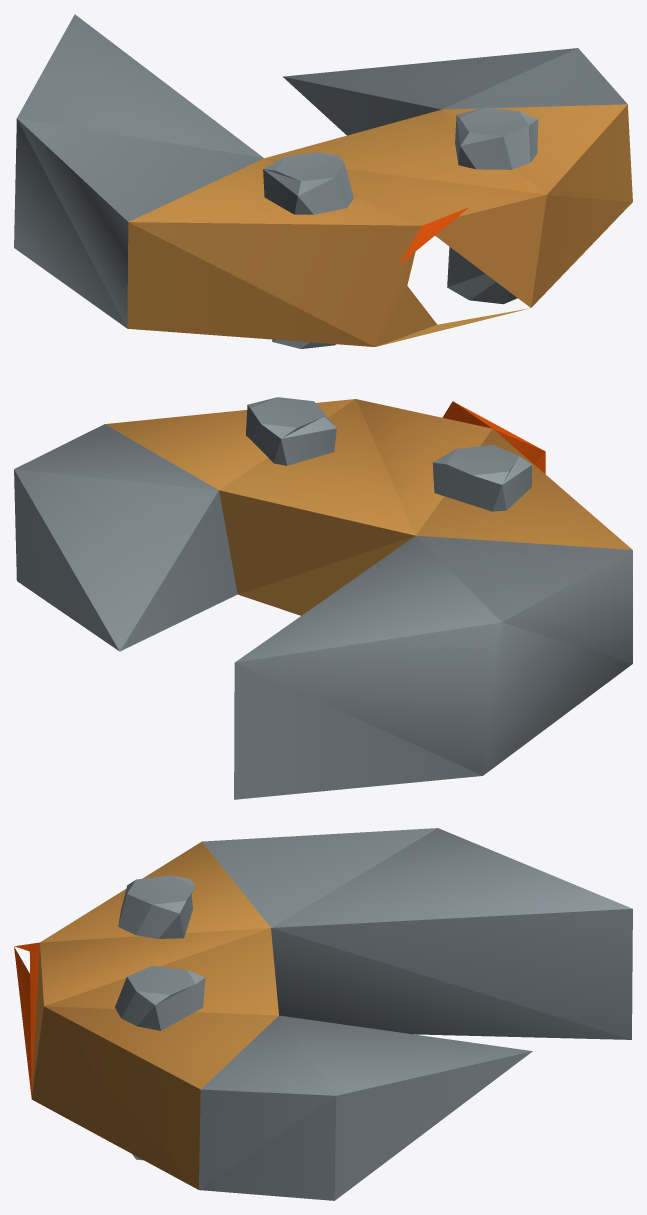
The model's file is claw_hook.glb.
The picture shows the model from 3 angles, top to bottom: view 1: azimuth 30°, elevation 25°; view 2: azimuth 150°, elevation 25°; view 3: azimuth 270°, elevation 25°; orthographic projection. The views are drawn at different scales.
Visible parts, largest first — view 1: claw_hook; view 2: claw_hook; view 3: claw_hook.
Boxes of the visible parts, bbox=[...] form: claw_hook: bbox=[14, 14, 632, 348]; claw_hook: bbox=[14, 397, 632, 799]; claw_hook: bbox=[14, 828, 632, 1200].
Bounding box in the file's own units: 0.6993 × 0.2168 × 0.7216.
1 material, 1 textured.
